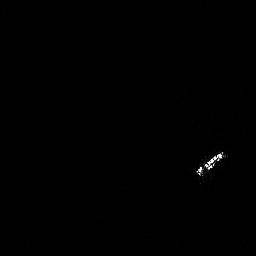ship: (194, 149, 227, 181)
